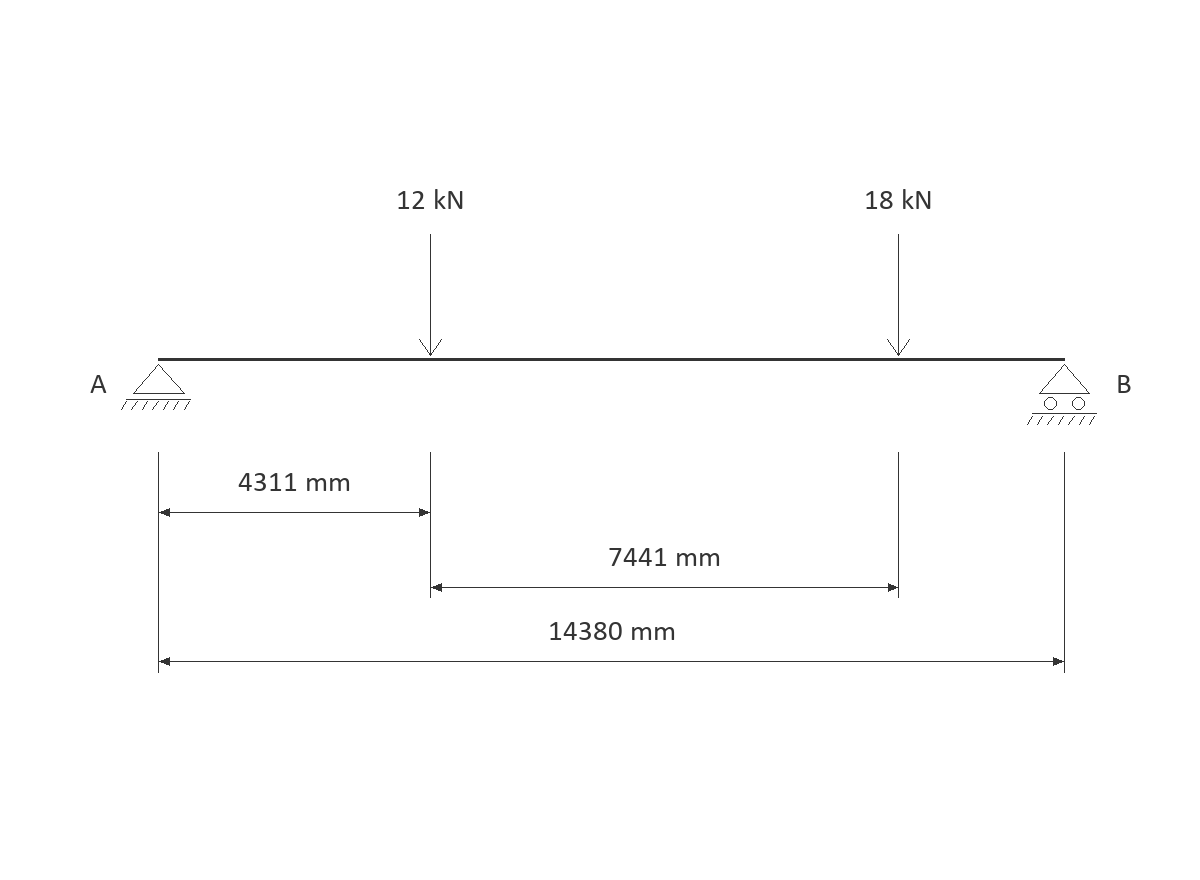pin_support: (121, 364, 191, 410)
point_load: (419, 234, 442, 356), (887, 234, 910, 356)
roller_support: (1027, 364, 1097, 425)
